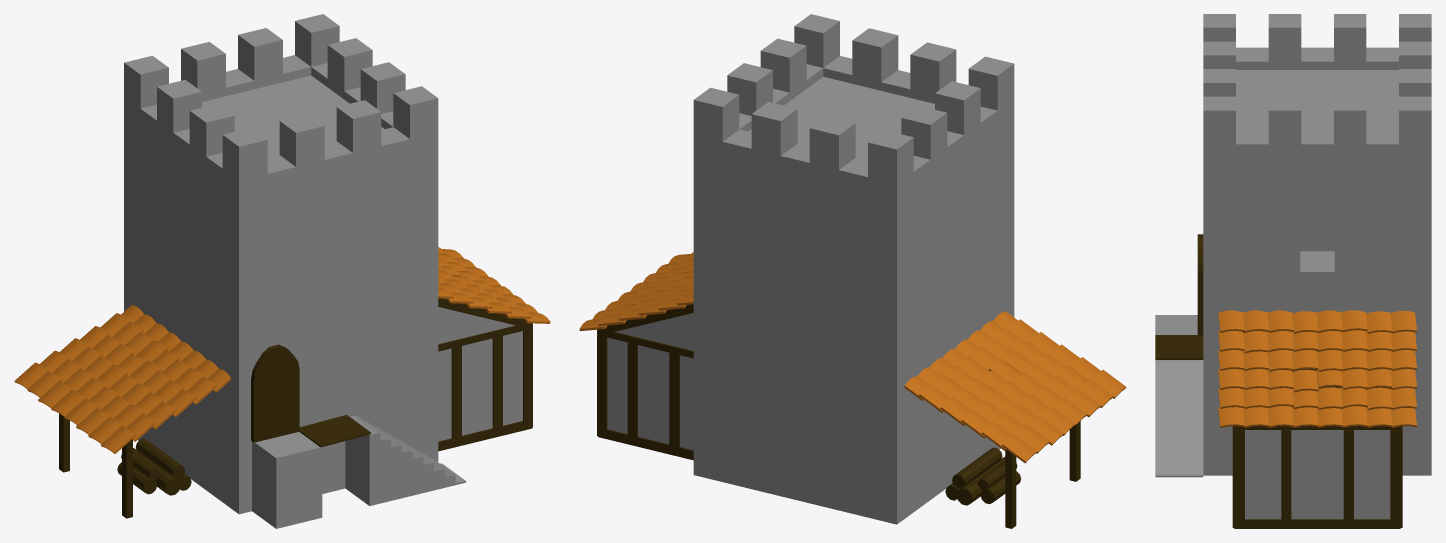
Rendered from Castle_1.fbx.
The picture shows the model from 3 angles, left to right: view 1: azimuth 30°, elevation 25°; view 2: azimuth 150°, elevation 25°; view 3: azimuth 270°, elevation 25°; orthographic projection. The views are drawn at different scales.
Visible parts, largest first — view 1: pCube59, castle, pCube56, pCube55, pCube2, pCube60, pCube6, pCube57, pCylinder4; view 2: pCube59, castle, pCube2, pCube6, pCylinder4; view 3: pCube59, castle, pCube2, pCube55, pCube57, pCube56, pCube60, pCube45, pCube14, pCube11, pCube44, pCube13 (+43 smaller).
Boxes of the visible parts, x1,y1,x2,y2 form: pCube59: [124, 14, 438, 514]; castle: [438, 307, 522, 441]; pCube56: [252, 432, 322, 528]; pCube55: [345, 415, 466, 505]; pCube2: [438, 298, 532, 451]; pCube60: [251, 344, 299, 442]; pCube6: [59, 413, 132, 518]; pCube57: [299, 415, 370, 447]; pCylinder4: [135, 439, 184, 479]; pCube59: [693, 14, 1014, 524]; castle: [607, 313, 693, 450]; pCube2: [597, 304, 693, 460]; pCube6: [1005, 421, 1080, 528]; pCylinder4: [952, 447, 1002, 488]; pCube59: [1203, 14, 1431, 475]; castle: [1245, 430, 1390, 519]; pCube2: [1232, 331, 1402, 528]; pCube55: [1155, 360, 1203, 477]; pCube57: [1155, 335, 1203, 359]; pCube56: [1155, 315, 1197, 334]; pCube60: [1197, 234, 1203, 335]; pCube45: [1366, 387, 1392, 410]; pCube14: [1390, 310, 1416, 333]; pCube11: [1316, 310, 1343, 332]; pCube44: [1317, 387, 1343, 409]; pCube13: [1366, 311, 1392, 333].
Bounding box in the file's own units: 4.13 × 3.31 × 2.26.
